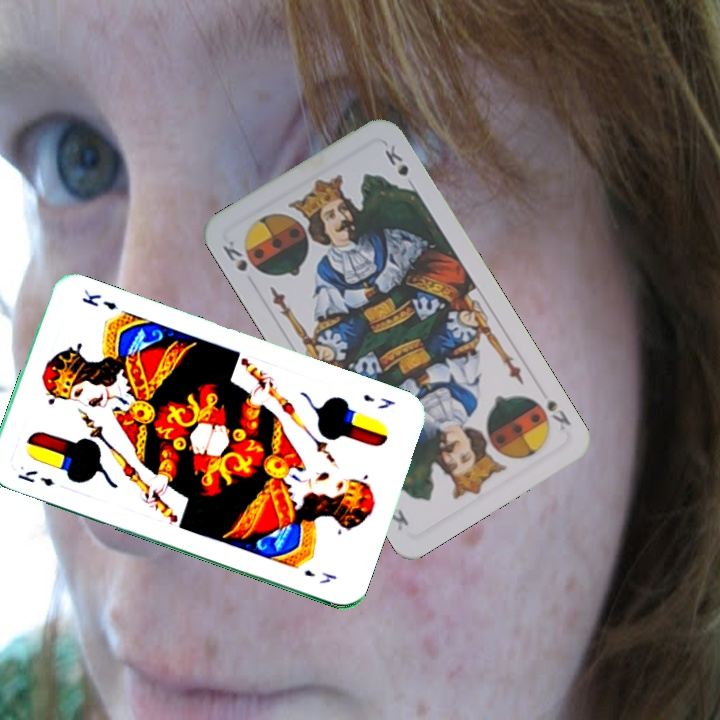EK: (13, 466, 57, 489), (359, 390, 397, 412)
SK: (542, 394, 574, 433), (218, 236, 250, 274)
